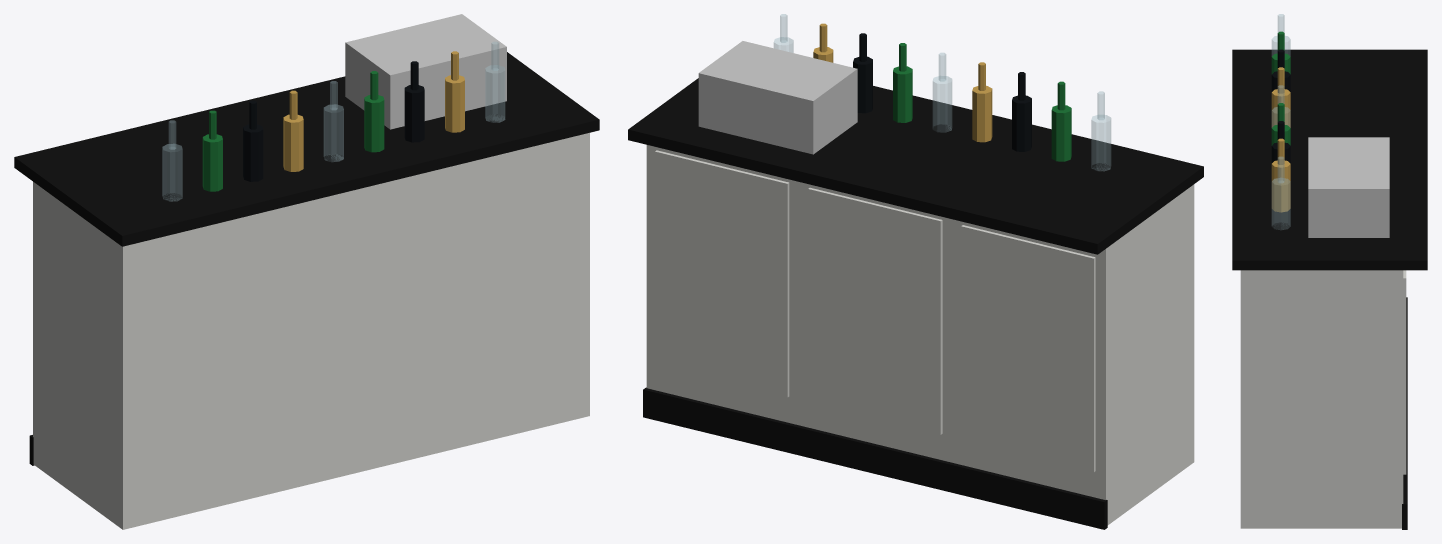
Rendered from hospitality.function.mobile_bar.glb.
3 views of the same model, side by side, from view 1: azimuth 30°, elevation 25°; view 2: azimuth 150°, elevation 25°; view 3: azimuth 270°, elevation 25° (orthographic). The views are drawn at different scales.
Parts seen in each view (by area): view 1: main__laminate_white, main__plastic_black, main__steel_stainless, main__glass, main__glass_dark, main__plastic_green, main__brass; view 2: main__laminate_white, main__plastic_black, main__steel_stainless, main__glass, main__plastic_green, main__glass_dark, main__brass; view 3: main__laminate_white, main__plastic_black, main__steel_stainless, main__brass, main__glass, main__glass_dark, main__plastic_green.
Part boxes in pixels (box(x1,y1,x2,y2)): main__laminate_white: box(33, 132, 589, 529); main__plastic_black: box(14, 52, 599, 465); main__steel_stainless: box(345, 14, 506, 129); main__glass: box(162, 42, 504, 201); main__glass_dark: box(243, 61, 424, 181); main__plastic_green: box(202, 71, 384, 191); main__brass: box(283, 51, 464, 171); main__laminate_white: box(646, 145, 1194, 525); main__plastic_black: box(628, 78, 1203, 529); main__steel_stainless: box(698, 41, 857, 154); main__glass: box(774, 14, 1110, 171); main__plastic_green: box(893, 43, 1071, 161); main__glass_dark: box(853, 33, 1031, 151); main__brass: box(813, 23, 992, 142); main__laminate_white: box(1240, 270, 1406, 528); main__plastic_black: box(1232, 49, 1427, 529); main__steel_stainless: box(1308, 137, 1389, 237); main__brass: box(1271, 67, 1290, 212); main__glass: box(1272, 14, 1290, 229); main__glass_dark: box(1271, 49, 1290, 163); main__plastic_green: box(1271, 31, 1290, 145).
Size of the model in its own units: 1.84 by 1.38 by 0.72.
